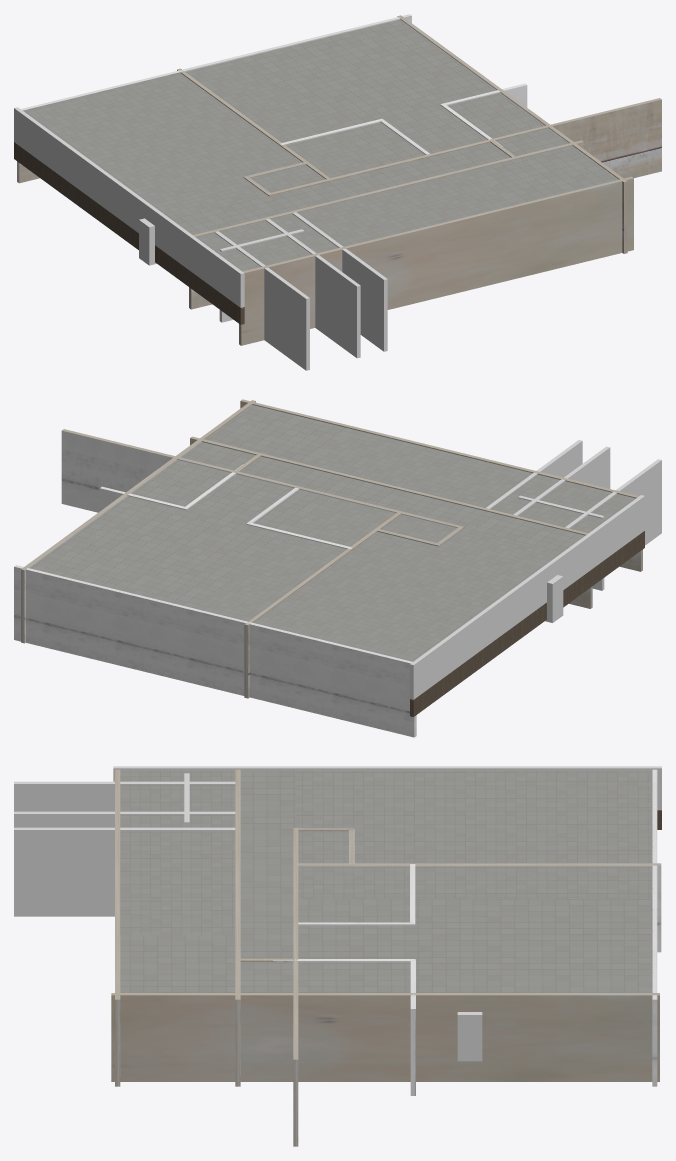
File: Hells Diner Subbed.fbx
The picture shows the model from 3 angles, top to bottom: view 1: azimuth 30°, elevation 25°; view 2: azimuth 150°, elevation 25°; view 3: azimuth 270°, elevation 25°; orthographic projection. The views are drawn at different scales.
Visible parts, largest first — view 1: Cieling, Wall.001, Glass, Wall.004, Lower Wall, Wall.015, Wall.014, Wall.005, Wall, Wall.003, Wall.002, Wall.007 (+2 smaller); view 2: Cieling, Wall, Glass, Wall.004, Lower Wall, Wall.015, Wall.003, Wall.001, Wall.002, Wall.014, Wall.007, Wall.005 (+2 smaller); view 3: Cieling, Wall.002, Wall.005, Wall.015, Glass, Wall.014, Wall.004, Wall.001, Wall.003, Wall, Wall.007, Player/ Door Reference.006 (+1 smaller).
Part boxes in pixels (x1,y1,x2,y2): Cieling: (24, 19, 618, 271); Wall.001: (239, 176, 633, 345); Glass: (14, 107, 244, 308); Wall.004: (267, 98, 661, 196); Lower Wall: (14, 142, 244, 324); Wall.015: (214, 231, 309, 370); Wall.014: (265, 219, 360, 358); Wall.005: (292, 212, 387, 351); Wall: (17, 14, 411, 183); Wall.003: (189, 140, 583, 309); Wall.002: (397, 15, 627, 253); Wall.007: (177, 68, 329, 179); Cieling: (29, 405, 635, 661); Wall: (14, 565, 416, 737); Glass: (410, 495, 644, 699); Wall.004: (61, 429, 464, 528); Lower Wall: (410, 531, 644, 716); Wall.015: (565, 459, 661, 545); Wall.003: (190, 436, 592, 608); Wall.001: (240, 399, 642, 571); Wall.002: (21, 400, 255, 643); Wall.014: (513, 446, 610, 515); Wall.007: (244, 512, 400, 698); Wall.005: (486, 440, 582, 508); Cieling: (120, 770, 652, 992); Wall.002: (111, 993, 659, 1081); Wall.005: (14, 827, 235, 916); Wall.015: (14, 781, 235, 811); Glass: (113, 766, 661, 810); Wall.014: (14, 811, 235, 827); Wall.004: (293, 828, 298, 1146); Wall.001: (115, 769, 120, 1086); Wall.003: (235, 769, 240, 1086); Wall: (652, 769, 657, 1086); Wall.007: (298, 863, 661, 952); Player/ Door Reference.006: (457, 1012, 482, 1061).
Bounding box in the file's own units: 6185 × 857 × 5725.
